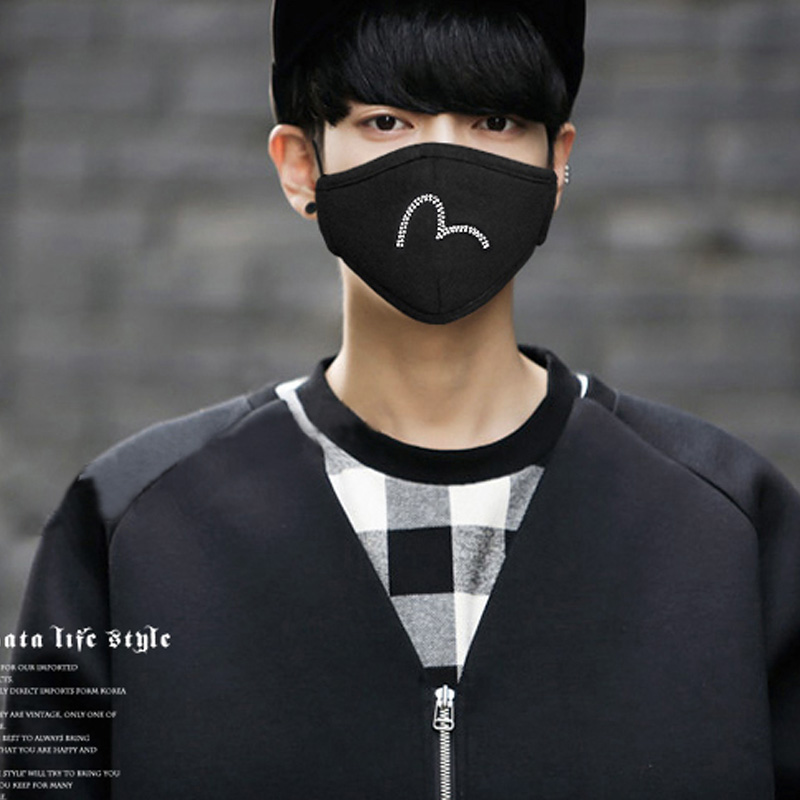face_mask: (321, 34, 553, 319)
